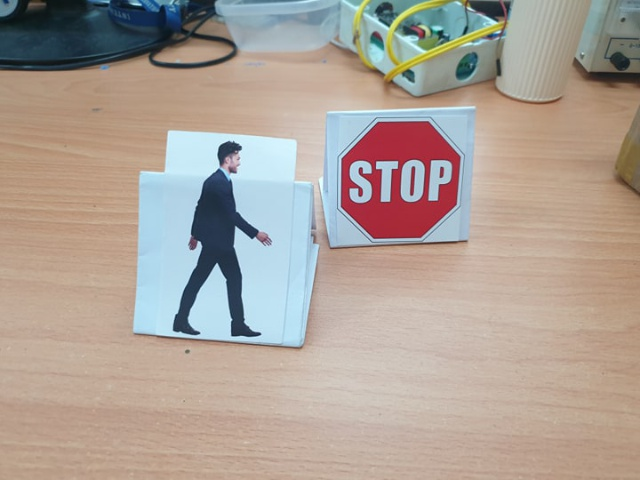Person: (173, 140, 270, 341)
Stop: (342, 120, 466, 248)
